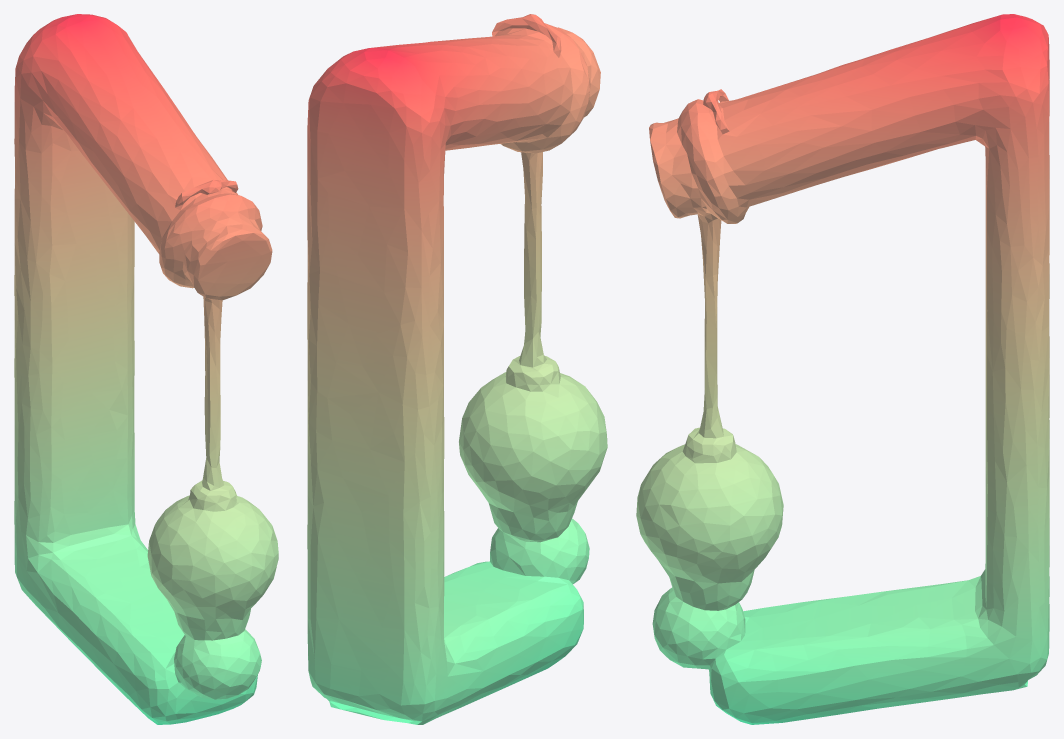
File: 57_cyb_laser_gradient_fish_scales_2831_2026_10_03_38bce9.glb
The picture shows the model from 3 angles, left to right: view 1: azimuth 30°, elevation 25°; view 2: azimuth 150°, elevation 25°; view 3: azimuth 270°, elevation 25°; orthographic projection. The views are drawn at different scales.
Visible parts, largest first — view 1: geometry_0; view 2: geometry_0; view 3: geometry_0.
Part boxes in pixels (left/top/right/bottom): geometry_0: left=14, top=14, right=278, bottom=724; geometry_0: left=307, top=14, right=607, bottom=724; geometry_0: left=636, top=14, right=1049, bottom=724.
Size of the model in its own units: 0.1862 by 0.9555 by 0.5217.
